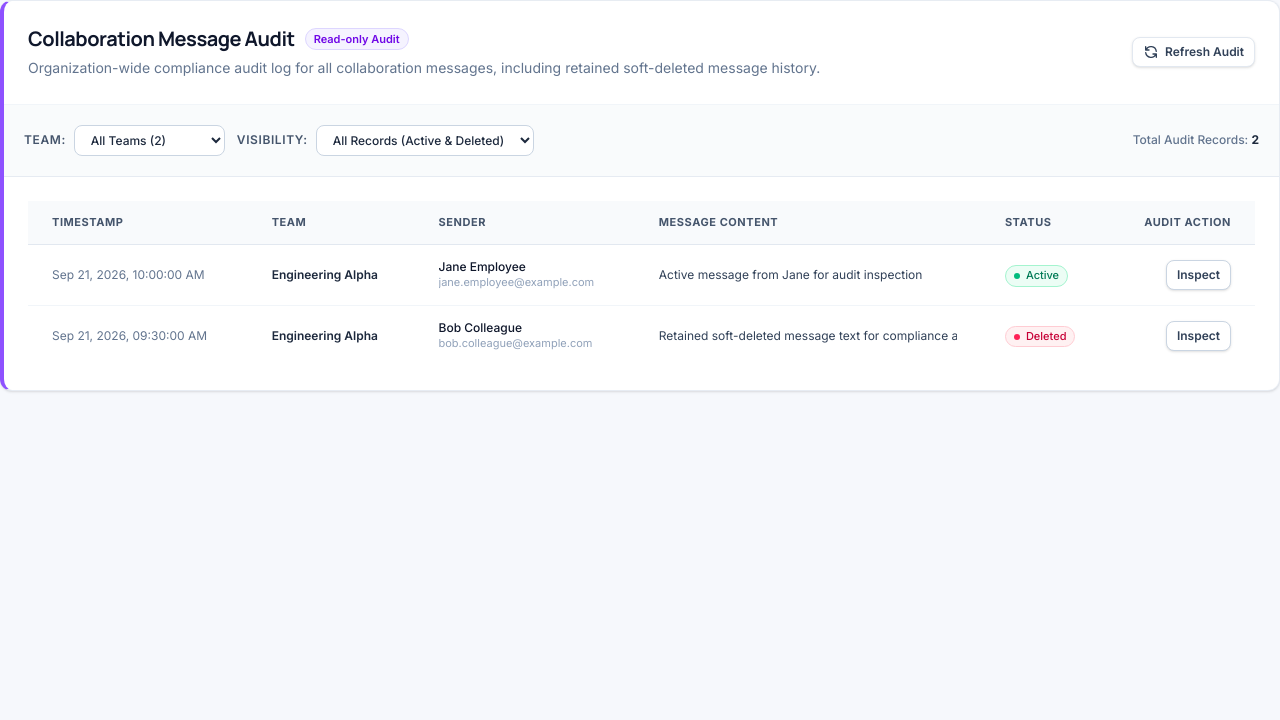
Test: Collaboration Messages Feature Suite › Admin Read-Only Audit Workflow › admin can inspect single audit record in full detail modal
The image size is (1280, 720).
Check: the text "Retained soft-deleted message text for compliance audit" is shown, box [659,328,957,343]
# Click Inspect on deleted message
Click the button "Inspect" in the row of "Sep 21, 2026, 09:30:00 AM": coordinates (1198, 336) [1166,321,1231,351]
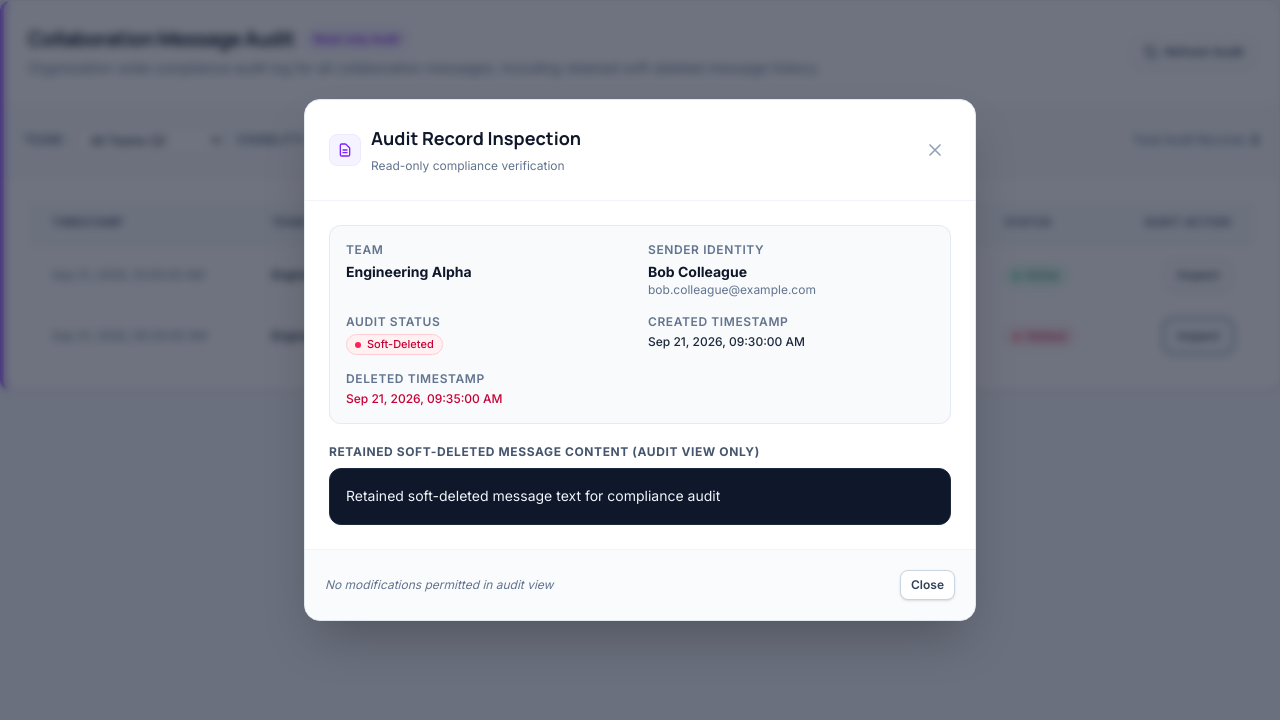
Check: the heading "Audit Record Inspection" is shown, box [371,124,581,152]
Check: the text "Retained Soft-Deleted Message Content (Audit View Only)" is shown, box [329,444,760,459]
Check: the text "Soft-Deleted" is shown, box [367,337,434,352]
# Close modal
Click the button named "Close inspection modal": coordinates (935, 150) [919,134,951,166]
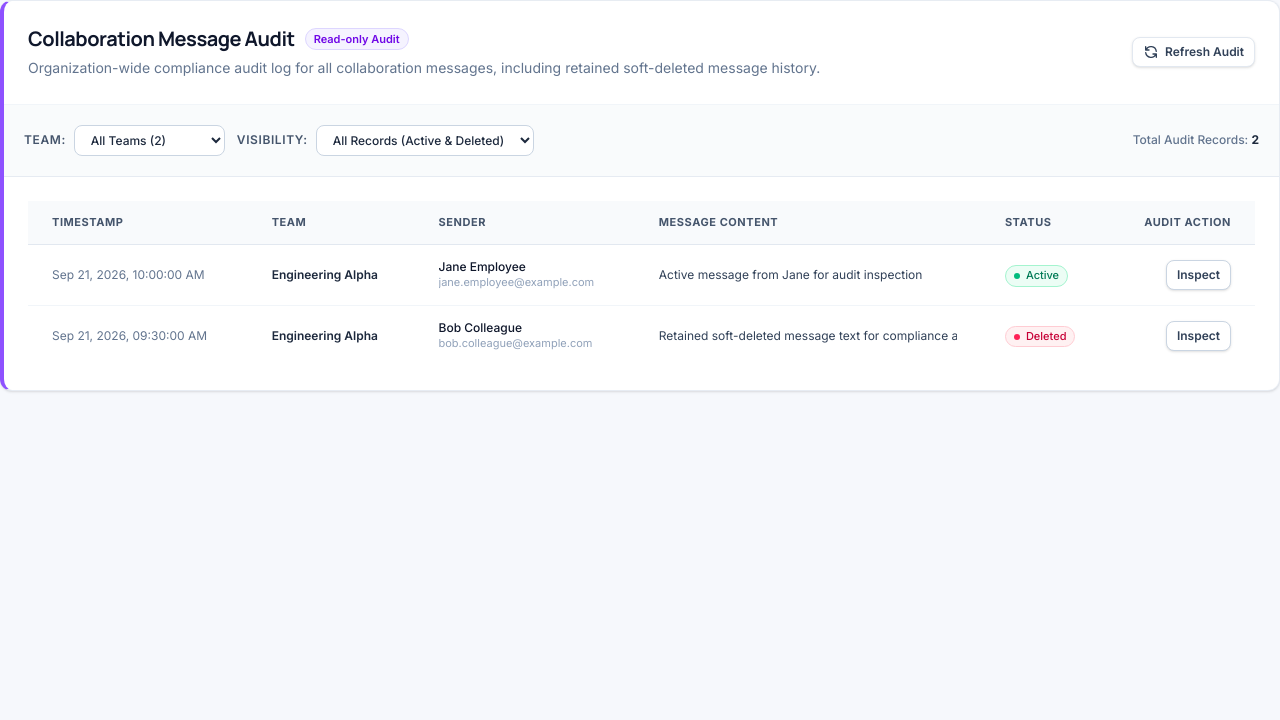
Check: the heading "Audit Record Inspection" is gone
